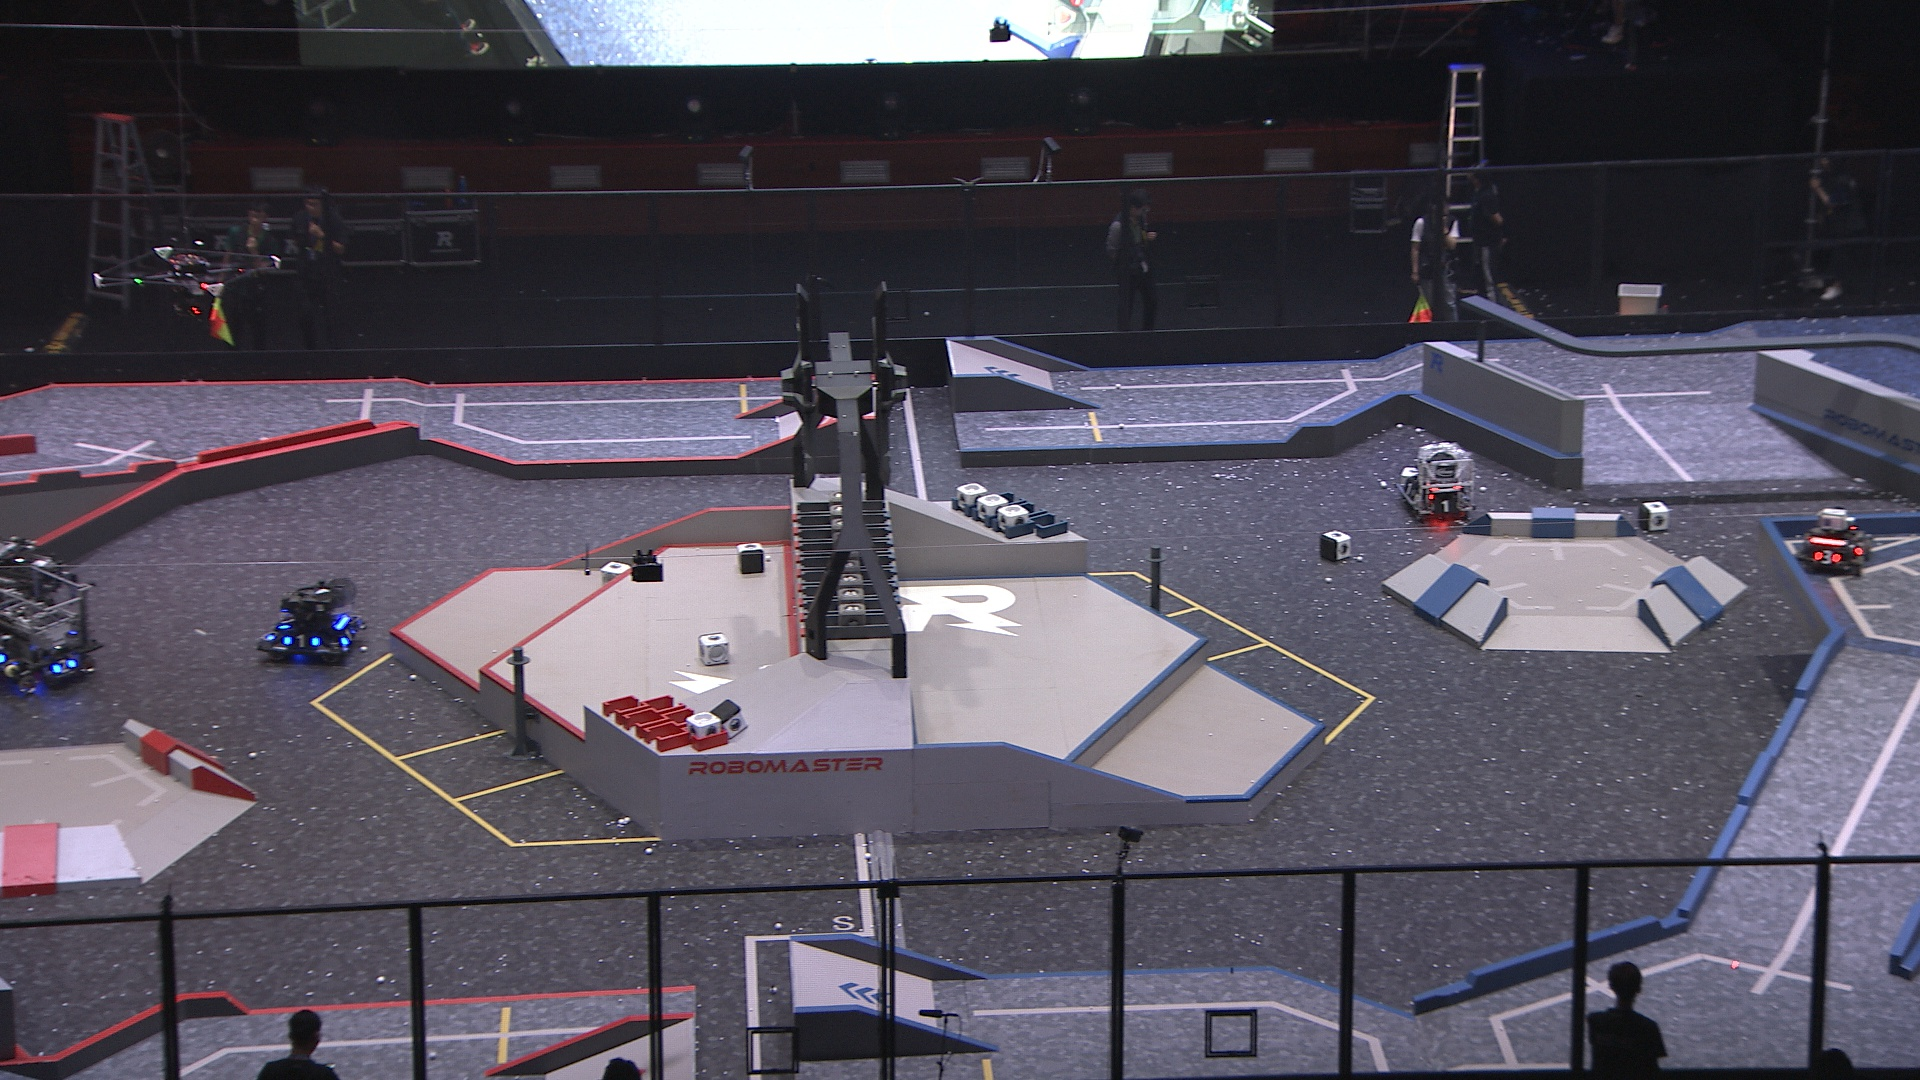armor: (284, 632, 320, 650), (1812, 547, 1842, 567), (49, 657, 79, 676), (1433, 496, 1460, 516), (340, 626, 357, 647), (277, 615, 297, 632), (1400, 479, 1418, 496)
car: (255, 580, 372, 661), (1395, 440, 1477, 524), (1793, 505, 1874, 575)
